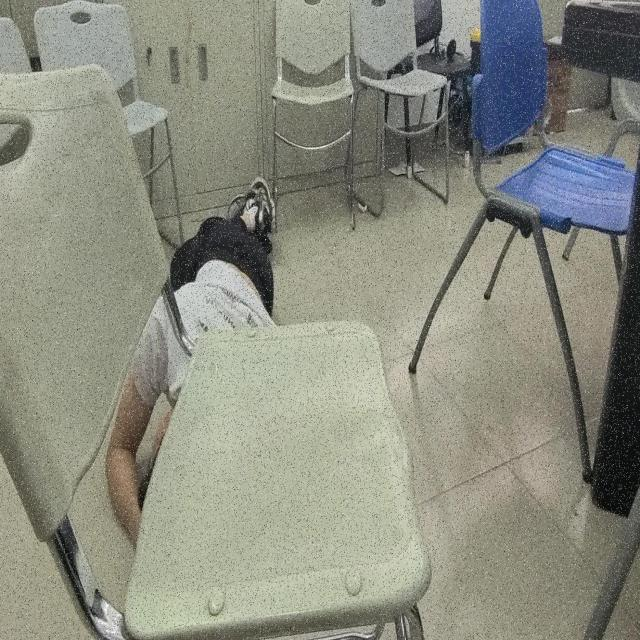fall: (101, 177, 282, 556)
